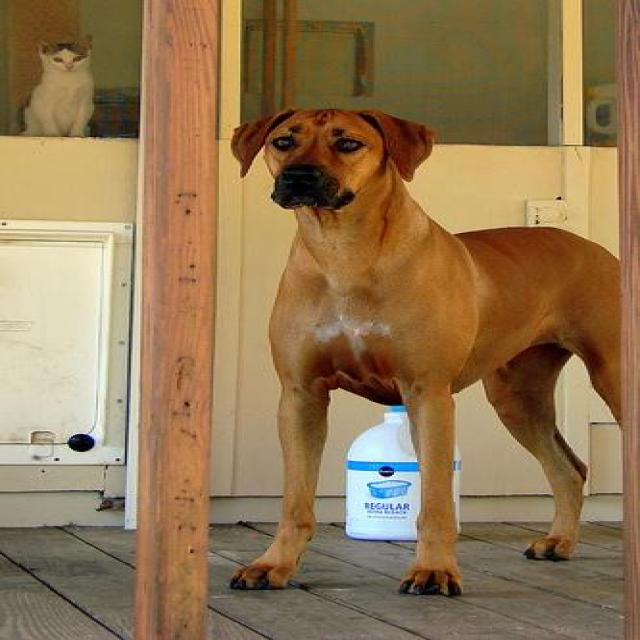rhodesian_ridgeback: (227, 102, 636, 598)
